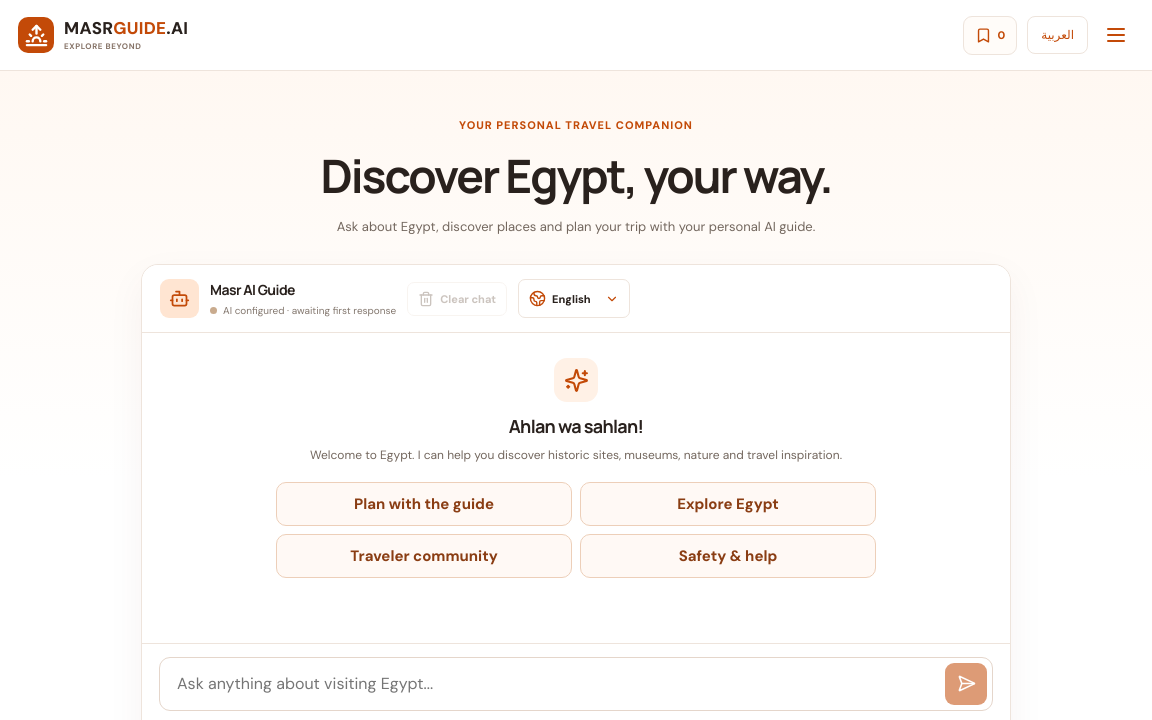
Test: GitHub release fixes › reports local-planner replies as planner
Type "Help me plan a trip" into the field named "Ask the tour guide". click: (560, 684)
box: [175,663,945,705]
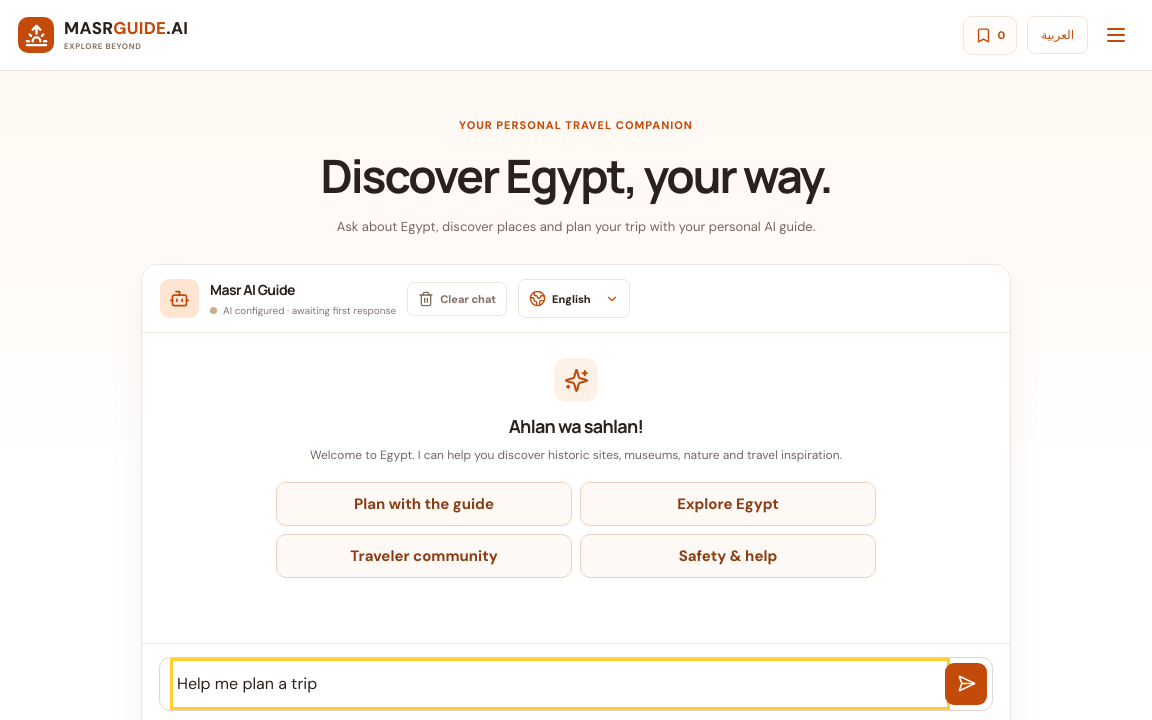
Click the button named "Send message". click: click(966, 684)
box: [945,663,987,705]
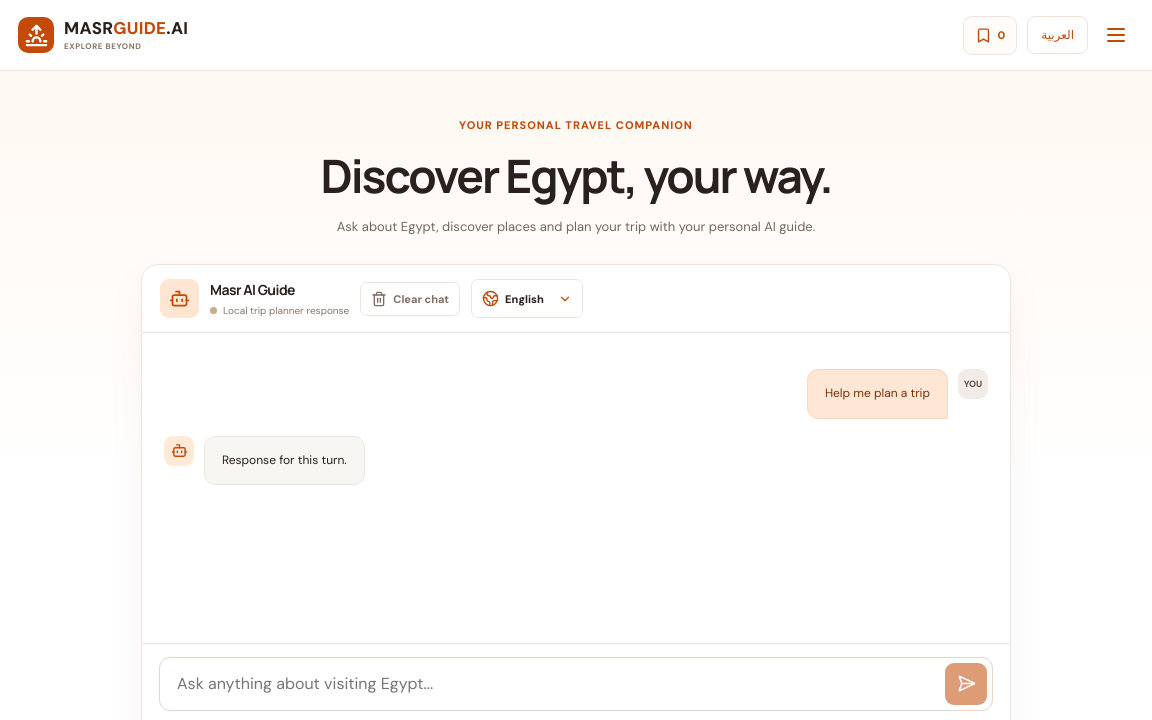
Expected: the text "Response for this turn." is shown, [204,436,365,485]
Expected: the text "Local trip planner response" is shown, [210,304,349,317]
